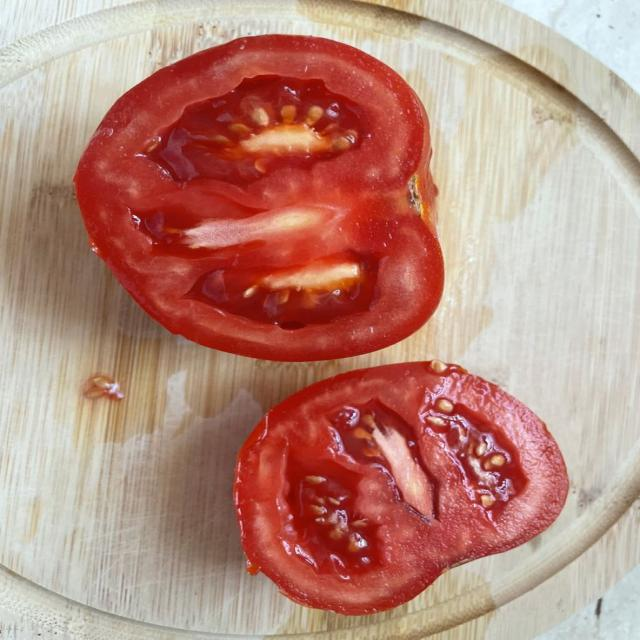sliced tomatoe: (75, 36, 443, 360), (235, 361, 567, 614)
